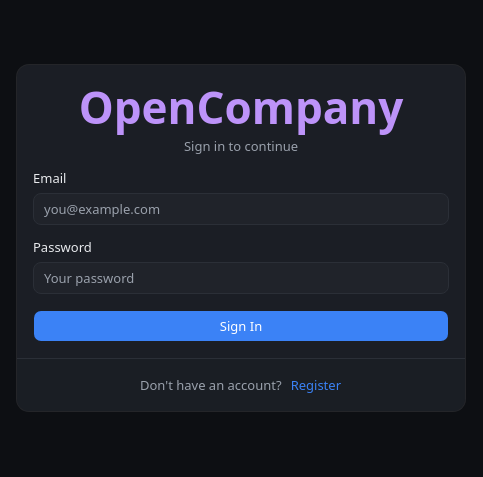
Test case: LoginPage › enforces the 8-character minimum only when registering
This screenshot has width=483, height=477.
Click the button "Register" at (316, 385), box [290, 375, 342, 396]
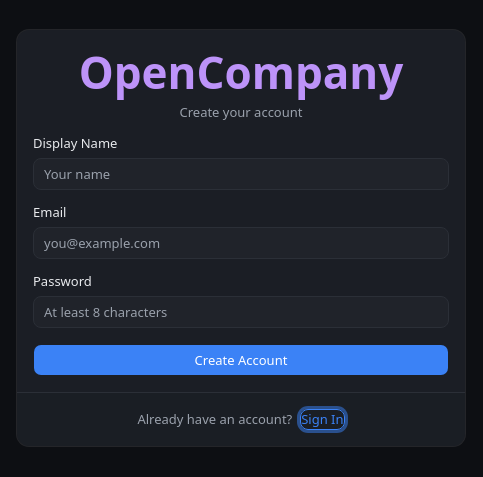
Type "A" into the field labelled "Display Name" at (241, 174), box [33, 158, 449, 190]
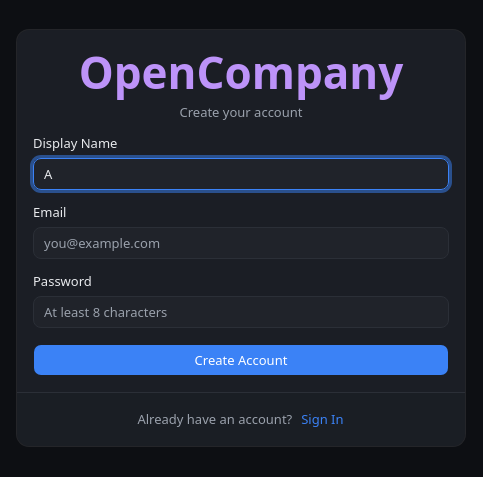
Type "a@b.com" into the field labelled "Email" at (241, 243), box [33, 227, 449, 259]
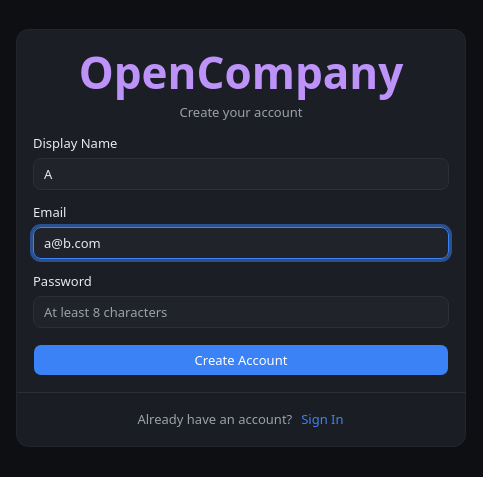
Type "short" into the password field labelled "Password" at (241, 312), box [33, 296, 449, 328]
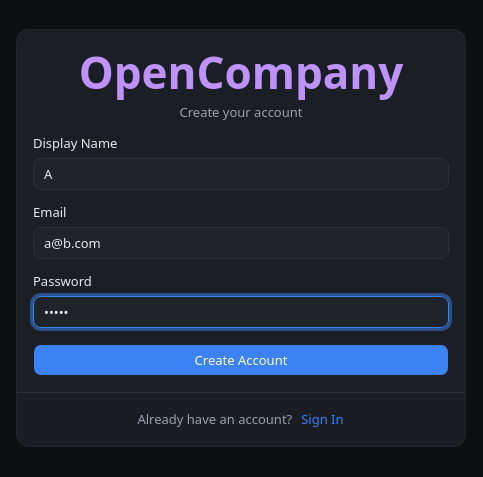
Click the button "Create Account" at (241, 360), box [33, 344, 449, 376]
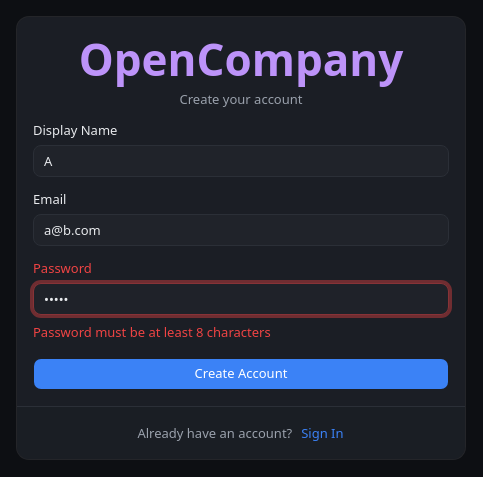
Result: the text "Password must be at least 8 characters" is shown at [33, 323, 271, 341]
